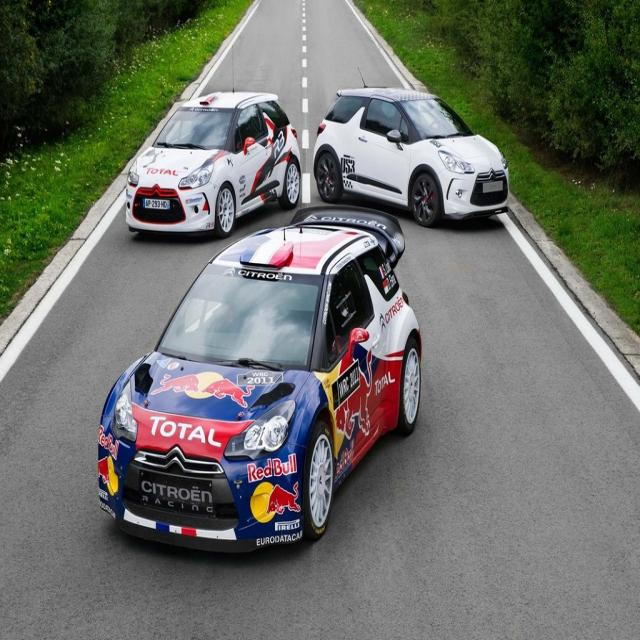car: (97, 200, 422, 547), (125, 41, 298, 242), (297, 75, 514, 228)
